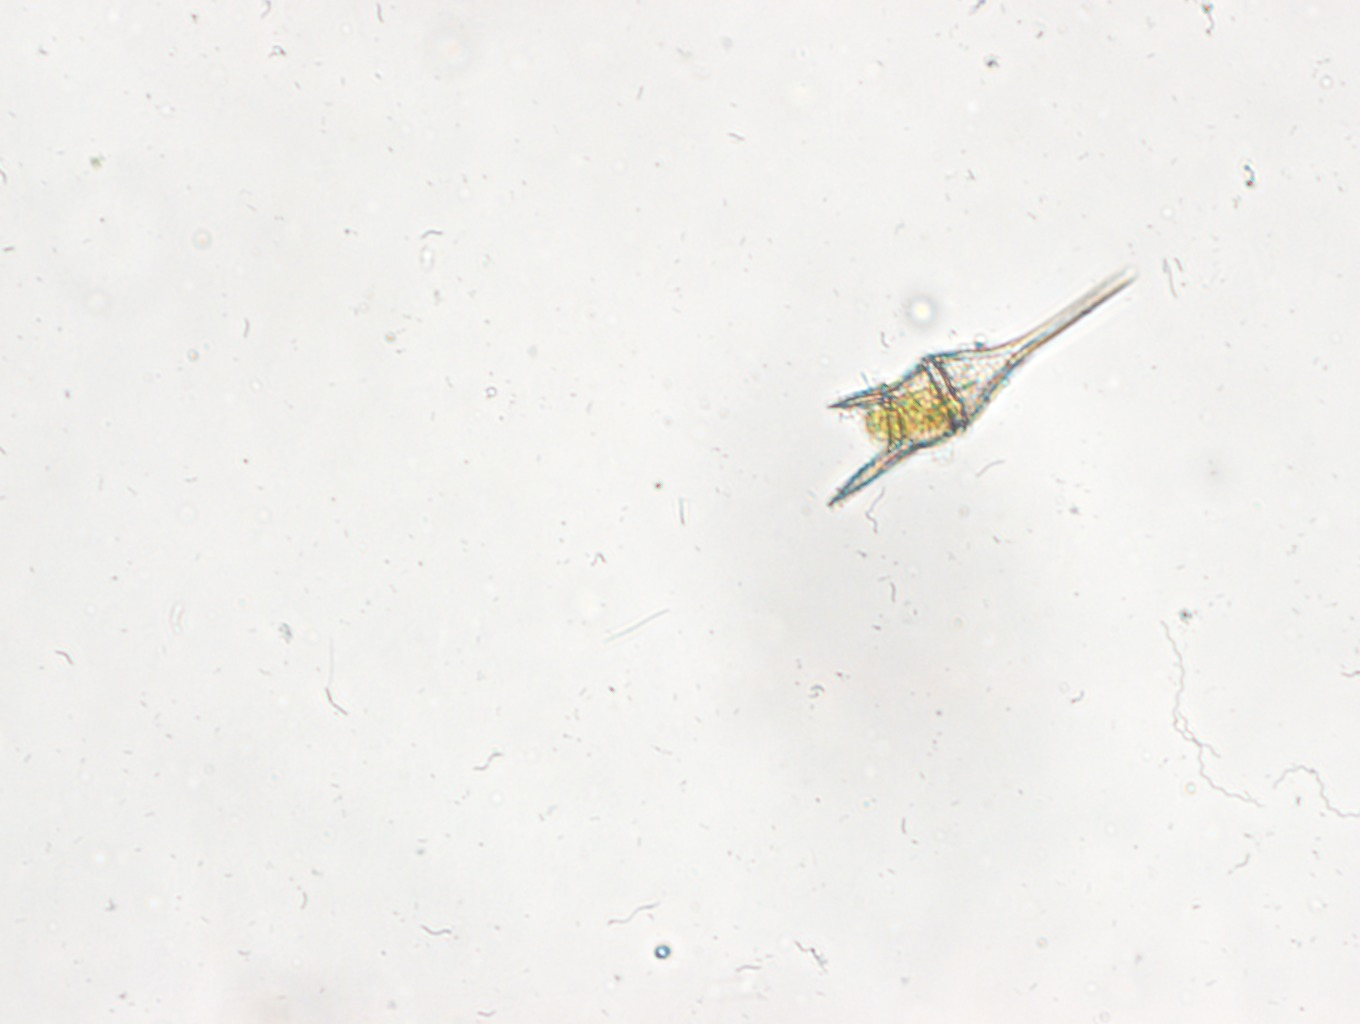ceratium furca: (806, 257, 1145, 513)
